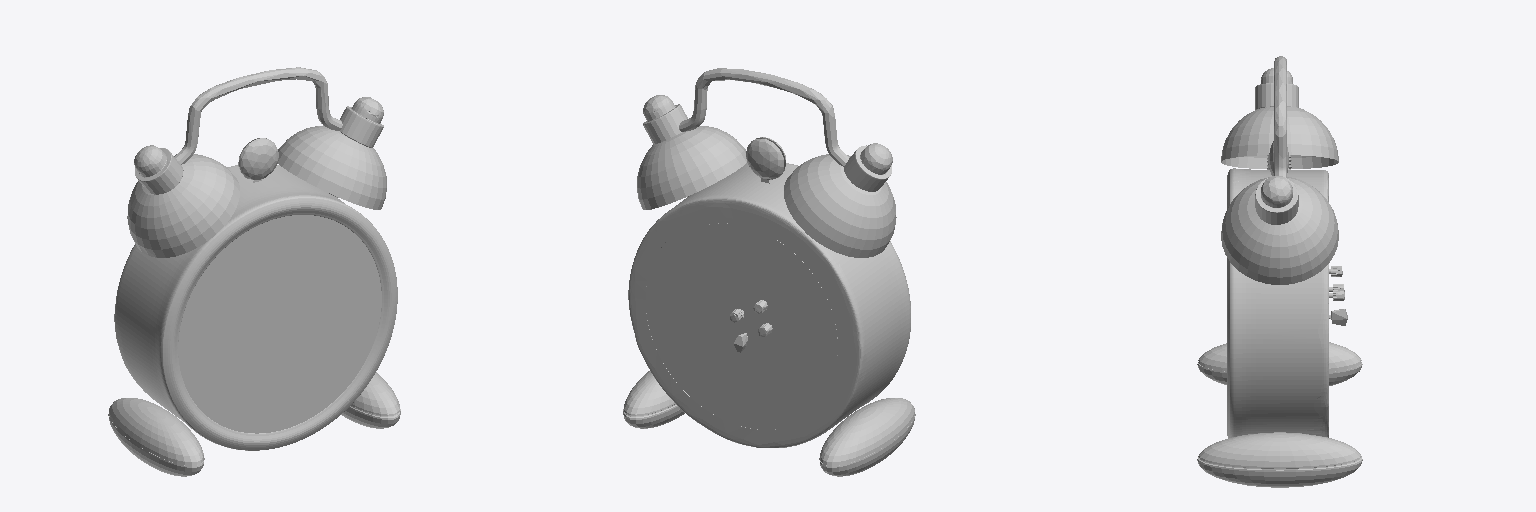
The model's file is clock_main_lp.obj.
3 renders of one model, left to right at view 1: azimuth 30°, elevation 25°; view 2: azimuth 150°, elevation 25°; view 3: azimuth 270°, elevation 25°, orthographic.
Visible parts, largest first — view 1: Bolt; view 2: Bolt; view 3: Bolt.
Boxes of the visible parts, x1,y1,x2,y2 form: Bolt: [108, 67, 400, 476]; Bolt: [623, 68, 915, 476]; Bolt: [1197, 56, 1362, 487].
Bounding box in the file's own units: 3.47 × 4.85 × 2.